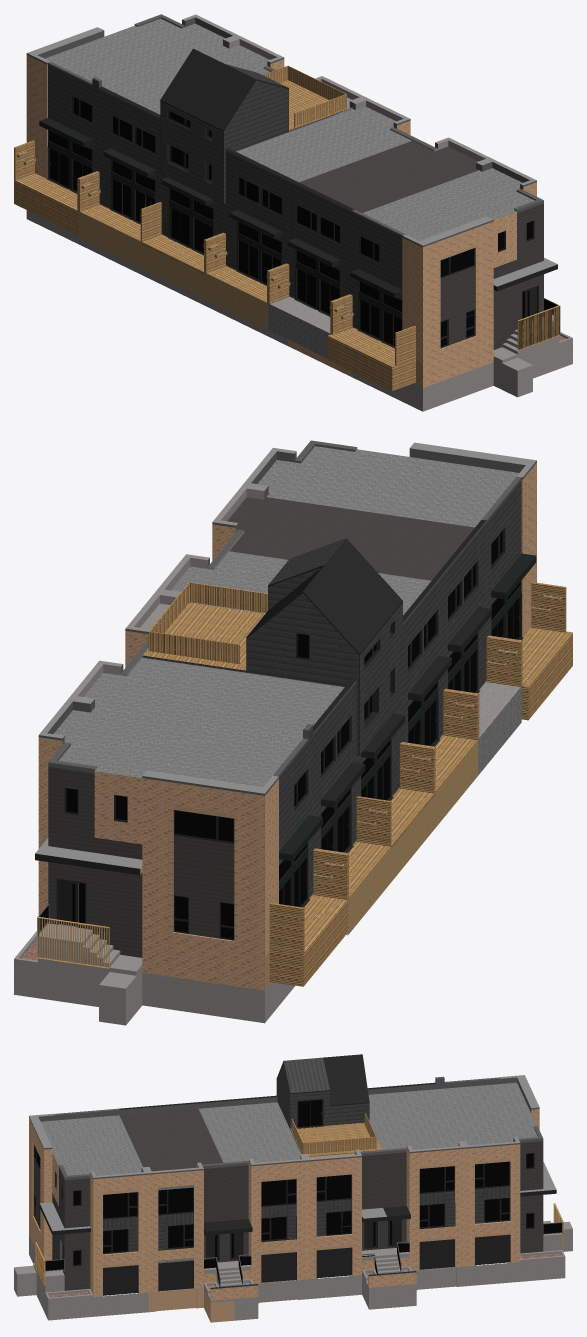
The picture shows the model from 3 angles, top to bottom: view 1: azimuth 30°, elevation 25°; view 2: azimuth 150°, elevation 25°; view 3: azimuth 270°, elevation 25°; orthographic projection. The views are drawn at different scales.
Parts seen in each view (by area): view 1: Mesh03, Object022, Mesh42, Object002, Object001, Object023; view 2: Mesh42, Object023, Object022, Mesh03, Object001, Object002, Object016, Mesh38; view 3: Mesh03, Object022, Mesh42, Object002, Object001, Object023.
Boxes of the visible parts, x1,y1,x2,y2 form: Mesh03: [327, 159, 572, 411]; Object022: [142, 48, 365, 315]; Mesh42: [14, 14, 239, 253]; Object002: [205, 97, 415, 345]; Object001: [268, 137, 492, 376]; Object023: [78, 36, 284, 284]; Mesh42: [14, 698, 347, 1025]; Object023: [69, 591, 391, 935]; Object022: [125, 538, 434, 881]; Mesh03: [243, 440, 572, 720]; Object001: [212, 485, 521, 774]; Object002: [156, 548, 478, 828]; Object016: [56, 879, 86, 928]; Mesh38: [175, 896, 233, 938]; Mesh03: [14, 1108, 148, 1320]; Object022: [276, 1054, 392, 1309]; Mesh42: [435, 1075, 572, 1286]; Object002: [198, 1095, 306, 1320]; Object001: [119, 1102, 234, 1322]; Object023: [367, 1082, 464, 1307].
Bounding box in the file's own units: 763 × 571 × 1539.
Materials: 23 (17 with a texture image).
